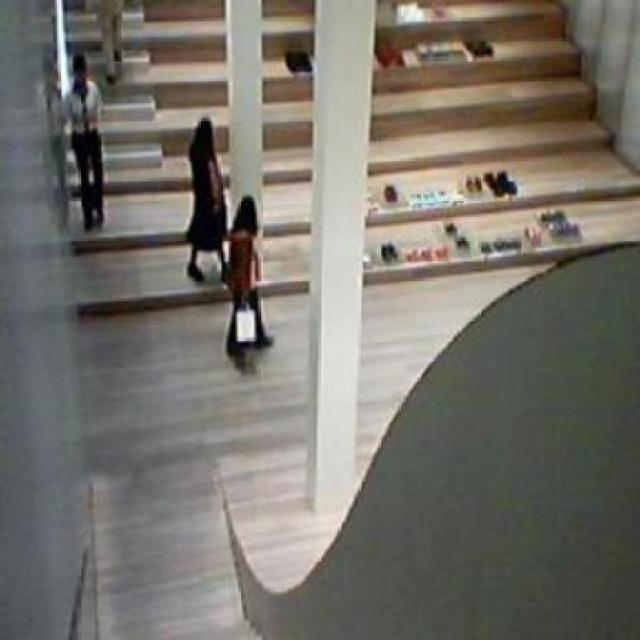stair: (73, 0, 638, 312), (52, 0, 166, 165)
